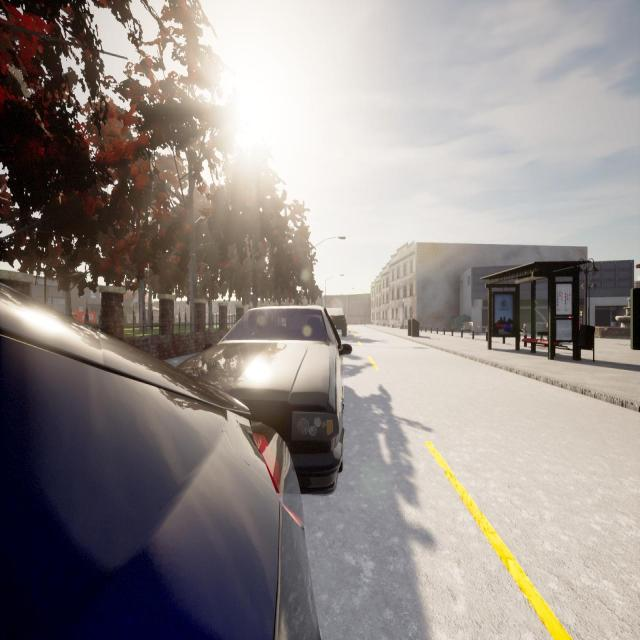Vehicle: (0, 287, 320, 640), (176, 306, 352, 493), (323, 308, 348, 338)
